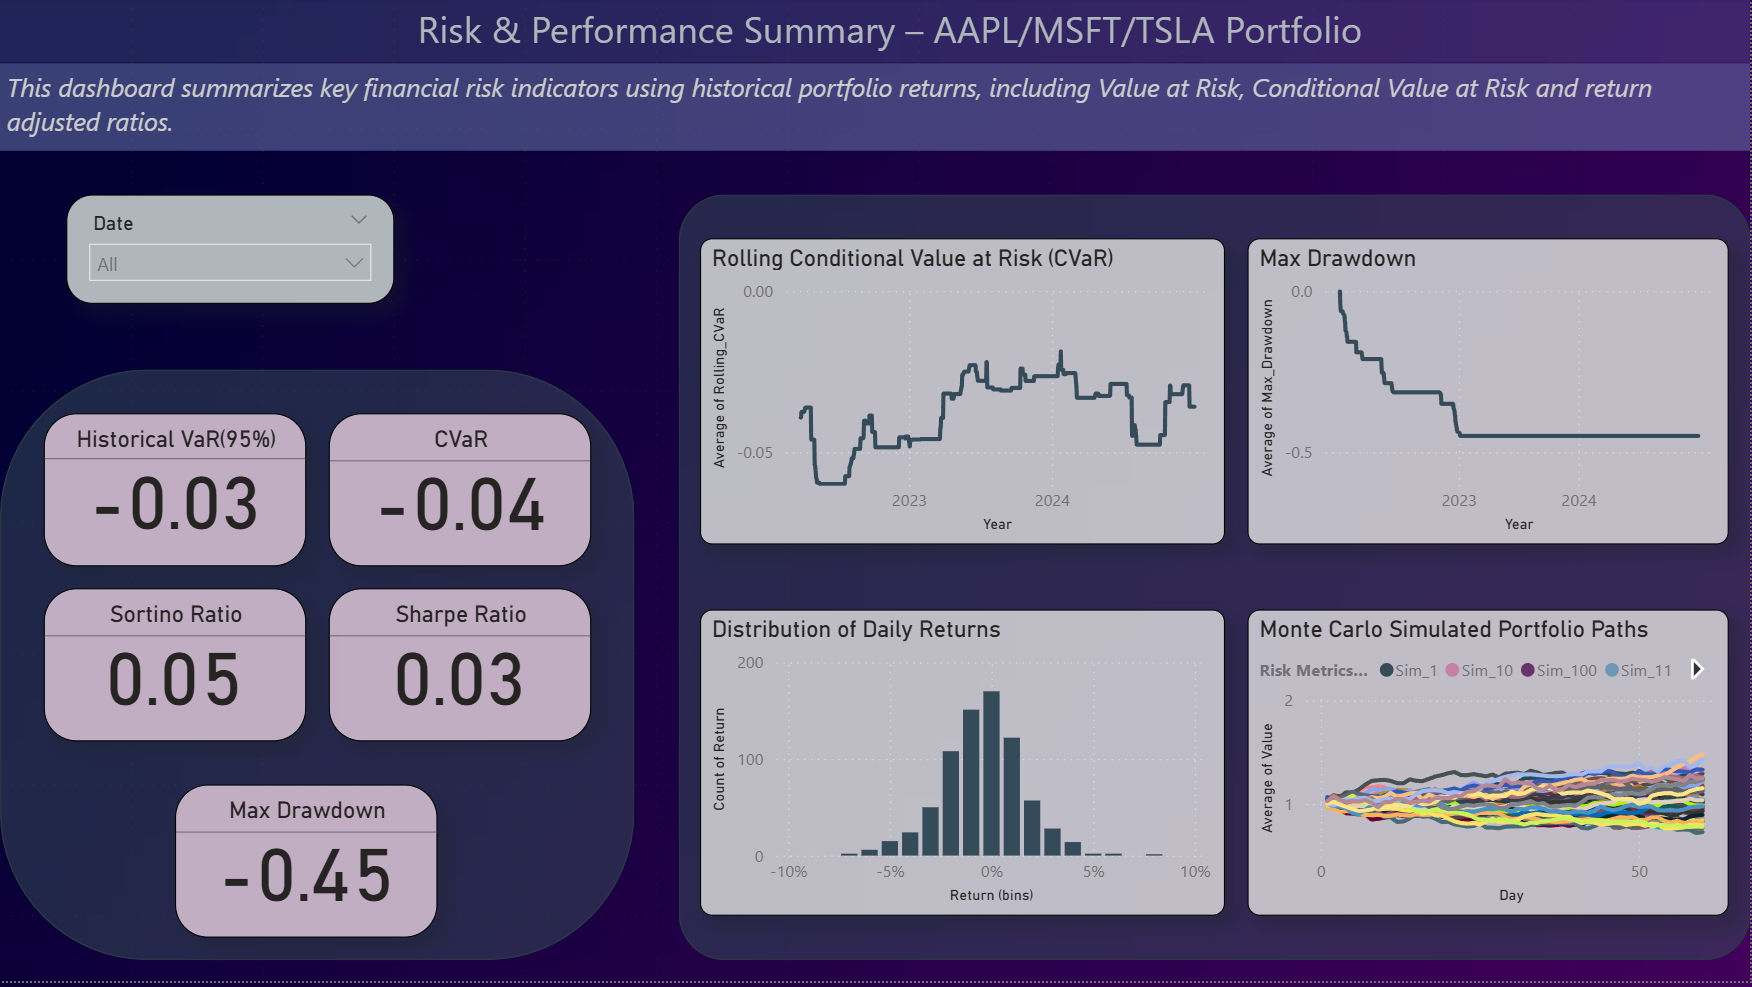

Layout of this report page (visuals, bound fields, positions):
{"tool":"powerbi","page":{"name":"Page 4","canvas":[1280,720],"ordinal":0},"visuals":[{"type":"textbox","box":[0,0,1280,48],"z":0},{"type":"shape","box":[0,272,464,432],"z":1000},{"type":"card","title":"Historical VaR(95%)","fields":{"Values":["Sum(powerbi_summary.value)"]},"box":[32,304,192,112],"z":2000},{"type":"card","title":"CVaR","fields":{"Values":["Sum(powerbi_summary.value)"]},"box":[240,304,192,112],"z":3000},{"type":"card","title":"Max Drawdown","fields":{"Values":["Sum(powerbi_summary.value)"]},"box":[128,576,192,112],"z":4000},{"type":"card","title":"Sharpe Ratio","fields":{"Values":["Sum(powerbi_summary.value)"]},"box":[240,432,192,112],"z":5000},{"type":"card","title":"Sortino Ratio","fields":{"Values":["Sum(powerbi_summary.value)"]},"box":[32,432,192,112],"z":6000},{"type":"shape","box":[496,144,784,560],"z":7000},{"type":"lineChart","title":"Rolling Conditional Value at Risk (CVaR) ","fields":{"Y":["Avg(powerbi_timeseries.Rolling_CVaR)"],"Category":["powerbi_timeseries.Date.Variation.Date Hierarchy.Year","powerbi_timeseries.Date.Variation.Date Hierarchy.Quarter","powerbi_timeseries.Date.Variation.Date Hierarchy.Month","powerbi_timeseries.Date.Variation.Date Hierarchy.Day"]},"box":[512,176,384,224],"z":8000},{"type":"lineChart","title":" Max Drawdown","fields":{"Y":["Avg(powerbi_timeseries.Max_Drawdown)"],"Category":["powerbi_timeseries.Date.Variation.Date Hierarchy.Year","powerbi_timeseries.Date.Variation.Date Hierarchy.Quarter","powerbi_timeseries.Date.Variation.Date Hierarchy.Month","powerbi_timeseries.Date.Variation.Date Hierarchy.Day"]},"box":[912,176,352,224],"z":9000},{"type":"clusteredColumnChart","title":"Distribution of Daily Returns","fields":{"Category":["powerbi_timeseries.Return (bins)"],"Y":["CountNonNull(powerbi_timeseries.Return)"]},"box":[512,448,384,224],"z":10000},{"type":"lineChart","title":"Monte Carlo Simulated Portfolio Paths","fields":{"Category":["mc_simulation.Day"],"Y":["Avg(mc_simulation.Value)"],"Series":["mc_simulation.Simulation"]},"box":[912,448,352,224],"z":11000},{"type":"slicer","fields":{"Values":["powerbi_timeseries.Date"]},"box":[48,144,240,80],"z":12000},{"type":"textbox","box":[0,48,1280,64],"z":13000}]}

Visuals, with their boxes in screenshot pixels (x1, y1, x2, y2), scaled from the page's 1280x720 canvas onto the 1752x987 screenshot:
textbox: BBox(0, 0, 1751, 66)
shape: BBox(0, 373, 635, 965)
"Historical VaR(95%)" card: BBox(44, 417, 307, 570)
"CVaR" card: BBox(328, 417, 591, 570)
"Max Drawdown" card: BBox(175, 790, 438, 943)
"Sharpe Ratio" card: BBox(328, 592, 591, 746)
"Sortino Ratio" card: BBox(44, 592, 307, 746)
shape: BBox(679, 197, 1751, 965)
"Rolling Conditional Value at Risk (CVaR) " lineChart: BBox(701, 241, 1226, 548)
" Max Drawdown" lineChart: BBox(1248, 241, 1730, 548)
"Distribution of Daily Returns" clusteredColumnChart: BBox(701, 614, 1226, 921)
"Monte Carlo Simulated Portfolio Paths" lineChart: BBox(1248, 614, 1730, 921)
slicer - powerbi_timeseries.Date: BBox(66, 197, 394, 307)
textbox: BBox(0, 66, 1751, 154)
